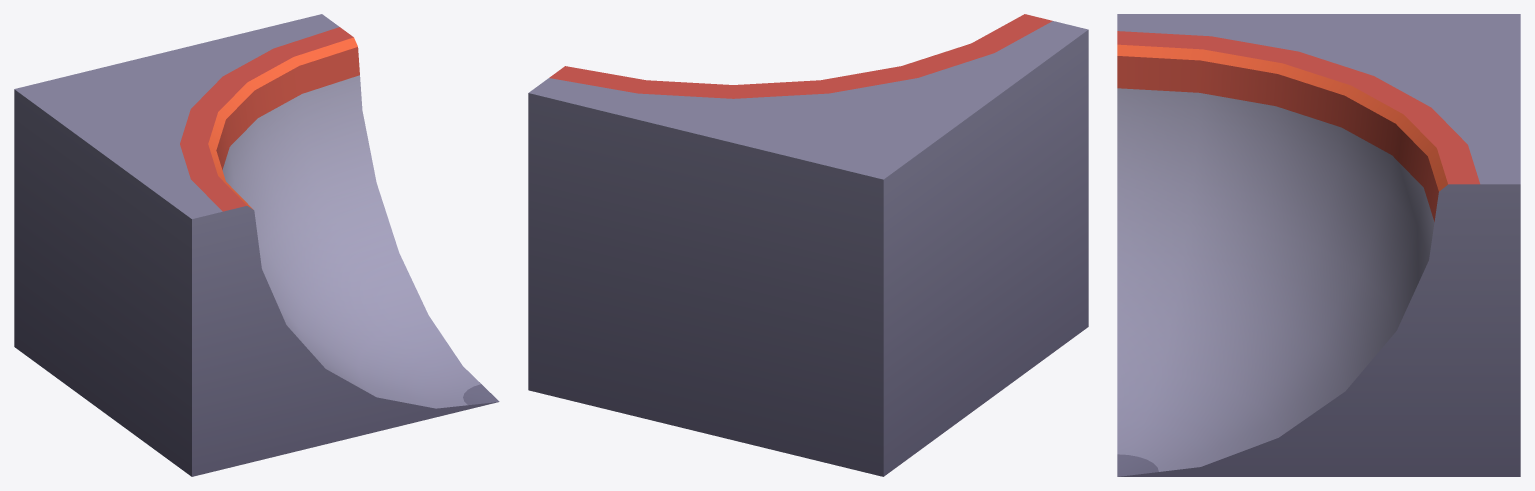
Rendered from bowl-corner-inner.glb.
3 views of the same model, side by side, from view 1: azimuth 30°, elevation 25°; view 2: azimuth 150°, elevation 25°; view 3: azimuth 270°, elevation 25° (orthographic). The views are drawn at different scales.
Visible parts, largest first — view 1: bowl-corner-inner; view 2: bowl-corner-inner; view 3: bowl-corner-inner.
Boxes of the visible parts, box(x1,y1,x2,y2) form: bowl-corner-inner: box(14, 14, 499, 476); bowl-corner-inner: box(528, 14, 1088, 476); bowl-corner-inner: box(1117, 14, 1520, 476).
Bounding box in the file's own units: 1 × 0.8 × 1.
1 material, 1 textured.
